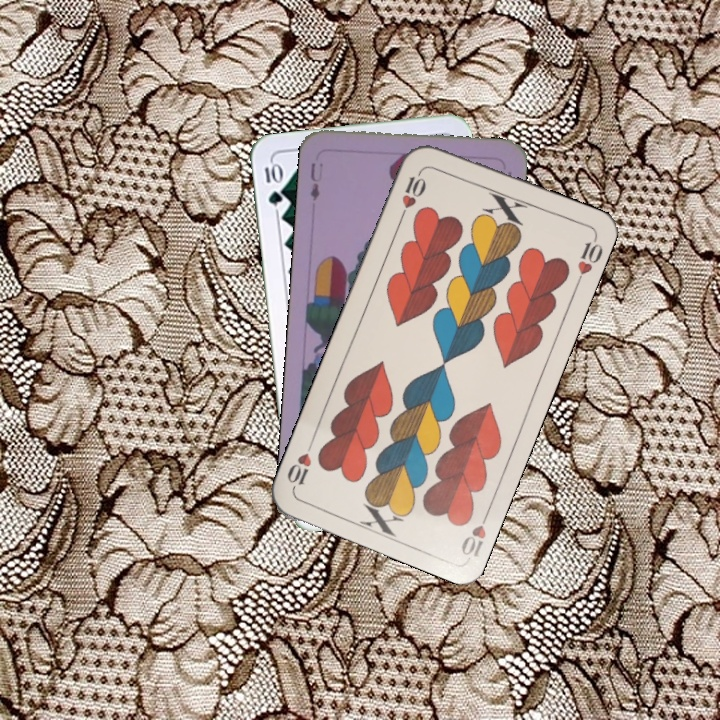EU: (306, 158, 325, 204)
G10: (260, 158, 285, 208)
H10: (457, 504, 493, 561), (396, 165, 429, 222)
